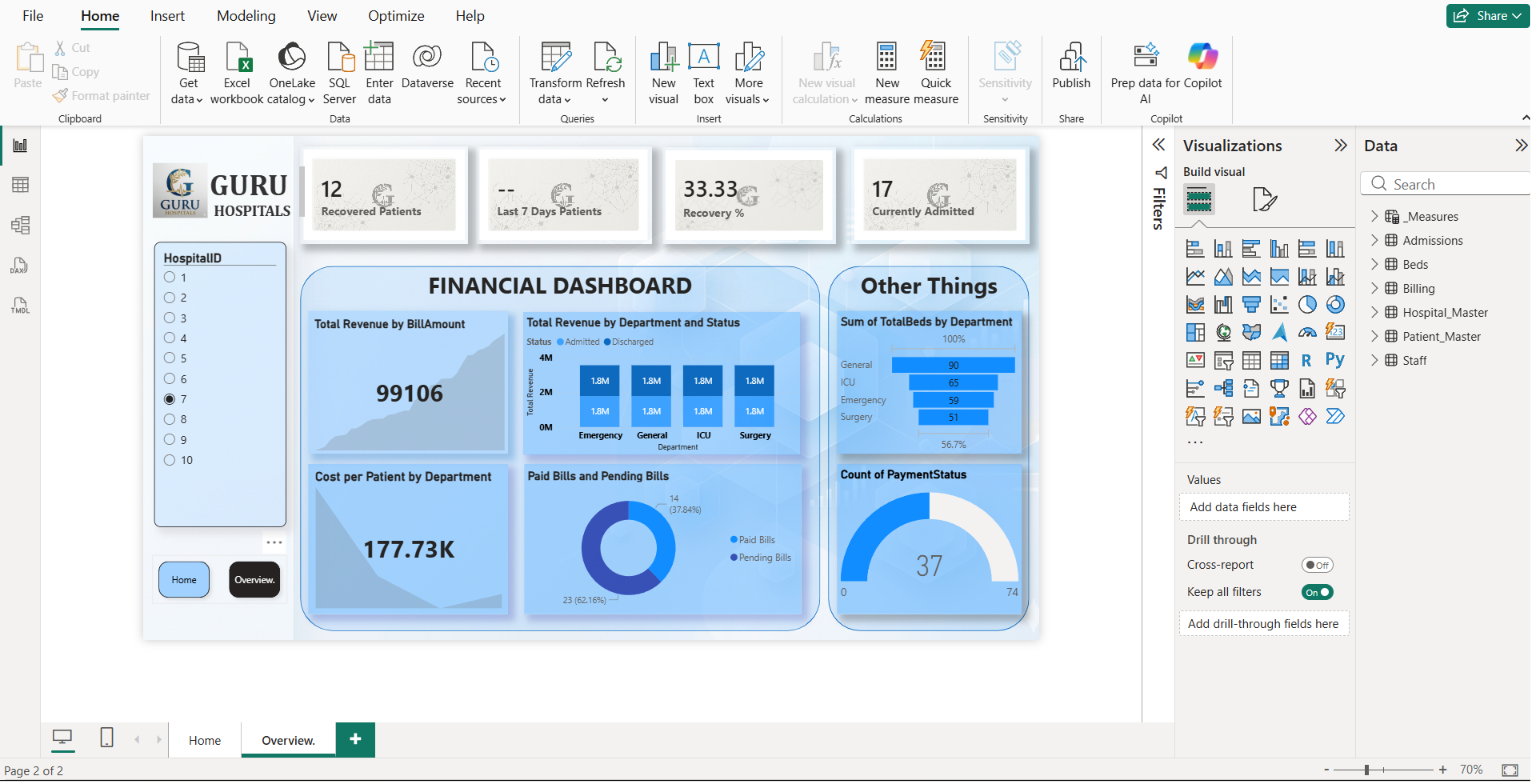

Layout of this report page (visuals, bound fields, positions):
{"tool":"powerbi","page":{"name":"Overview.","canvas":[1280,720],"ordinal":1},"visuals":[{"type":"cardVisual","fields":{"Data":["_Measures.Recovered Patients"]},"box":[224.4,14.5,240.1,139.9],"z":0},{"type":"pageNavigator","box":[12.9,598.6,192.9,70],"z":1000},{"type":"image","box":[12.9,38.6,80,78.6],"z":2000},{"type":"textbox","box":[82.9,38.6,152.9,91.4],"z":3000},{"type":"slicer","fields":{"Values":["Hospital_Master.HospitalID"]},"box":[15.7,151.4,188.6,407.1],"z":4000},{"type":"cardVisual","fields":{"Data":["_Measures.Yesterday Admitted"]},"box":[475.3,14.5,250.9,139.9],"z":5000},{"type":"cardVisual","fields":{"Data":["_Measures.Recovery %"]},"box":[742,15.7,248.5,138.7],"z":6000},{"type":"shape","box":[224.3,185.7,742.9,521.4],"z":7000},{"type":"textbox","box":[224.3,185.7,742.9,64.3],"z":8000},{"type":"kpi","fields":{"Indicator":["_Measures.Total Revenue"],"TrendLine":["Billing.BillAmount"]},"box":[235.7,250,285.7,204.3],"z":9000},{"type":"kpi","fields":{"Indicator":["_Measures.Cost per Patient"],"TrendLine":["Admissions.Department"]},"box":[235.7,468.6,285.7,214.3],"z":10000},{"type":"columnChart","fields":{"Category":["Admissions.Department"],"Series":["Admissions.Status"],"Y":["_Measures.Total Revenue"]},"box":[542.9,251.4,395.7,204.3],"z":11000},{"type":"donutChart","fields":{"Y":["_Measures.Paid Bills","_Measures.Pending Bills"]},"box":[544.3,468.6,395.7,214.3],"z":12000},{"type":"shape","box":[978.6,185.7,287.1,521.4],"z":13000},{"type":"textbox","box":[990,185.7,265.7,64.3],"z":14000},{"type":"cardVisual","fields":{"Data":["_Measures.Currently Admitted"]},"box":[1011,14.5,254.6,139.9],"z":15000},{"type":"gauge","fields":{"Y":["CountNonNull(Billing.PaymentStatus)"]},"box":[991.7,468.1,264.2,214.7],"z":16000},{"type":"funnel","fields":{"Category":["Beds.Department"],"Y":["Sum(Beds.TotalBeds)"]},"box":[991.7,249.7,264.2,203.9],"z":17000}]}

Visuals, with their boxes on the page's 1280x720 design canvas (x1, y1, x2, y2). These are canvas units, not pixel positions in the 1531x782 screenshot, which may show the page scaled, cropped or inside an application window:
cardVisual - _Measures.Recovered Patients: 224:14:464:154
pageNavigator: 13:599:206:669
image: 13:39:93:117
textbox: 83:39:236:130
slicer - Hospital_Master.HospitalID: 16:151:204:558
cardVisual - _Measures.Yesterday Admitted: 475:14:726:154
cardVisual - _Measures.Recovery %: 742:16:990:154
shape: 224:186:967:707
textbox: 224:186:967:250
kpi - _Measures.Total Revenue x Billing.BillAmount: 236:250:521:454
kpi - _Measures.Cost per Patient x Admissions.Department: 236:469:521:683
columnChart - Admissions.Department x Admissions.Status: 543:251:939:456
donutChart - _Measures.Paid Bills x _Measures.Pending Bills: 544:469:940:683
shape: 979:186:1266:707
textbox: 990:186:1256:250
cardVisual - _Measures.Currently Admitted: 1011:14:1266:154
gauge - CountNonNull(Billing.PaymentStatus): 992:468:1256:683
funnel - Beds.Department x Sum(Beds.TotalBeds): 992:250:1256:454
